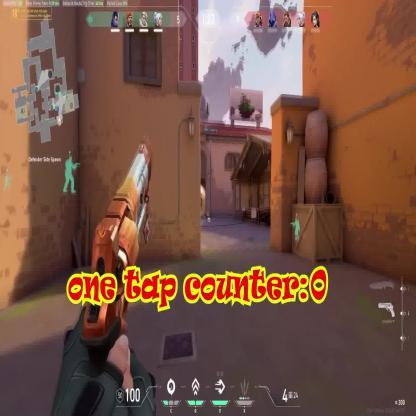enemy: (197, 192, 203, 217)
